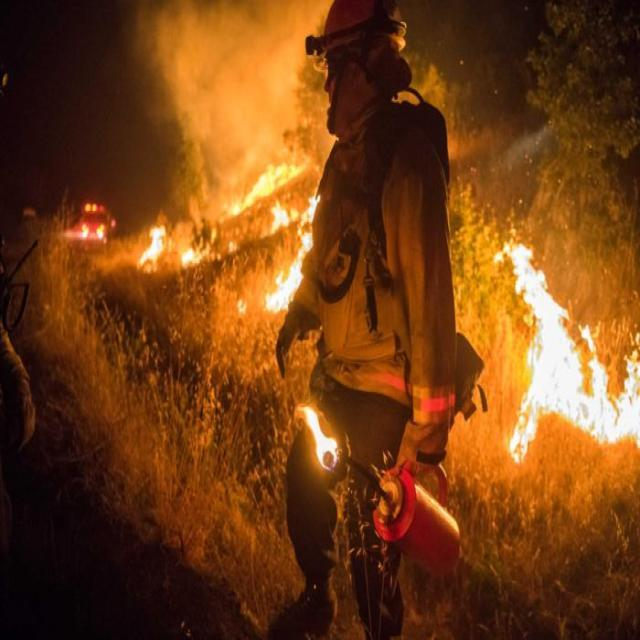Fire: (506, 243, 640, 467), (267, 237, 304, 312), (300, 408, 341, 471), (146, 226, 168, 272)
Smoke: (157, 6, 310, 190)
